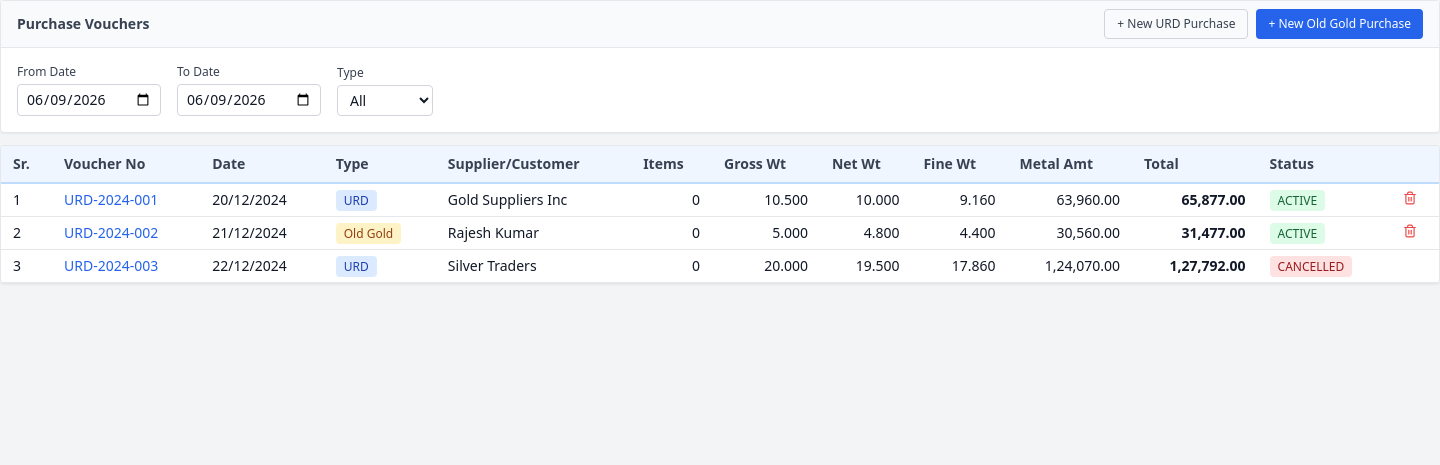
Test case: PurchaseURD › Navigation to Form › returns to list view when Back to List is clicked
Click the button "+ New URD Purchase": coordinates (1176, 24) [1104,9,1248,39]
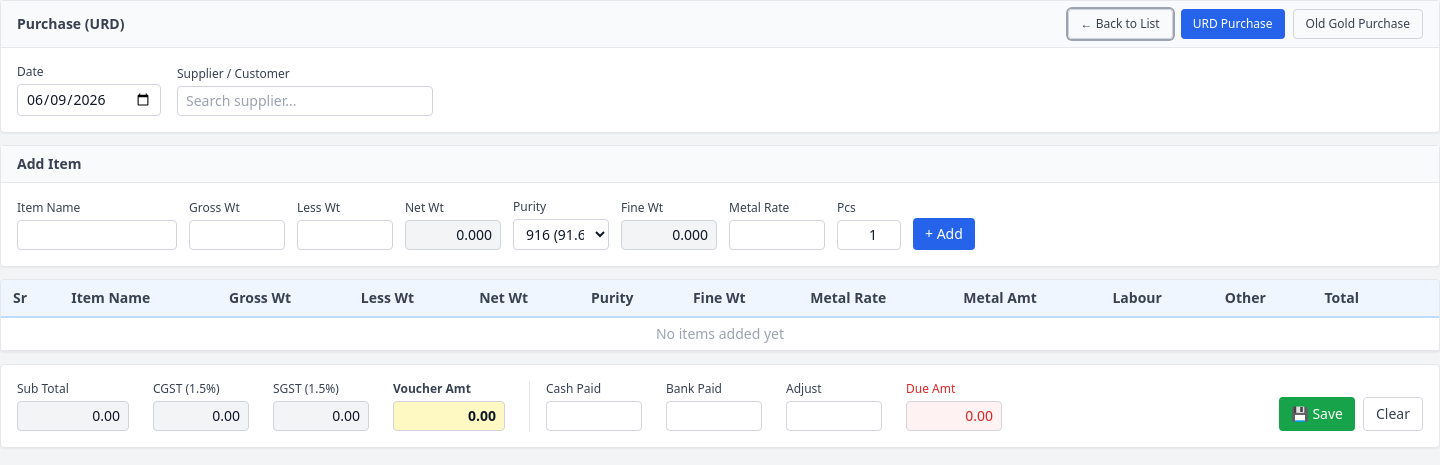
expect the button "← Back to List" is shown: met
Click the button "← Back to List": coordinates (1120, 24) [1068,9,1173,39]
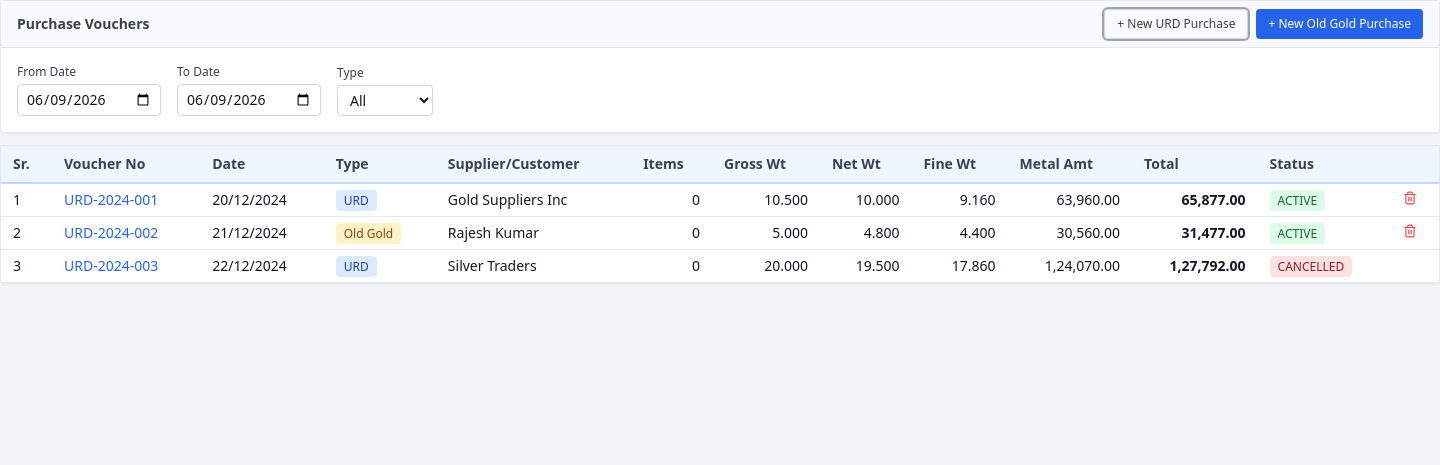
expect the text "Purchase Vouchers" is shown: met, box [17,14,150,34]
